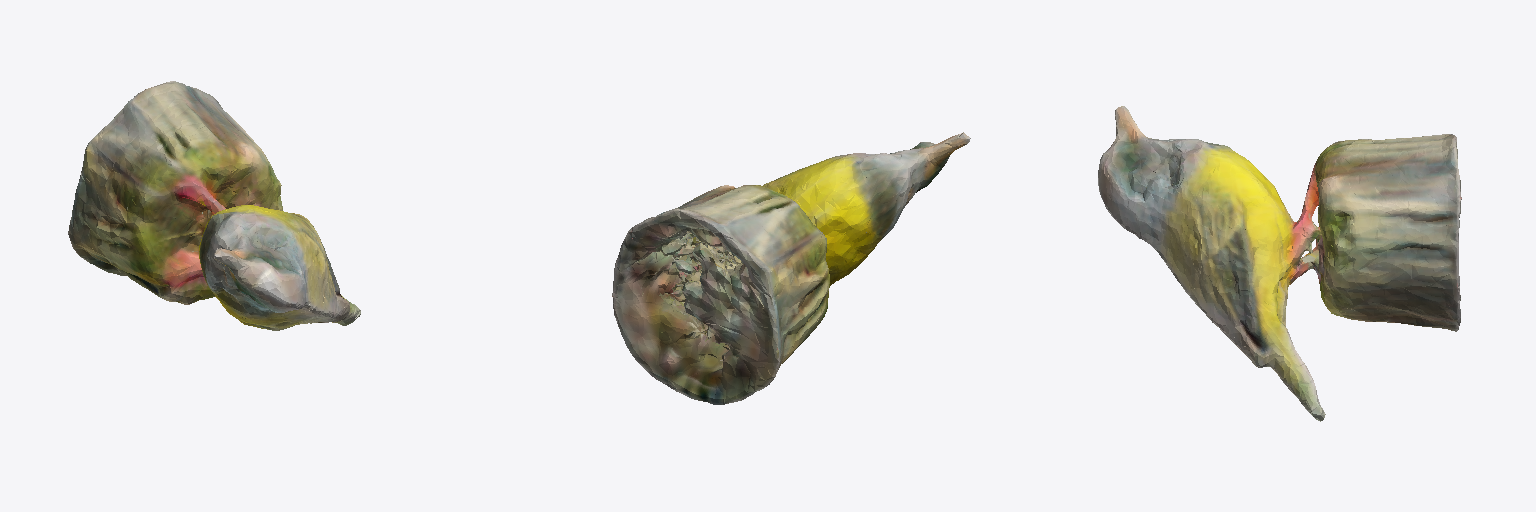
3 renders of one model, left to right at view 1: azimuth 30°, elevation 25°; view 2: azimuth 150°, elevation 25°; view 3: azimuth 270°, elevation 25°, orthographic.
Bounding box in the file's own units: 1.07 × 0.9265 × 1.38.
Materials: 1 (1 with a texture image).